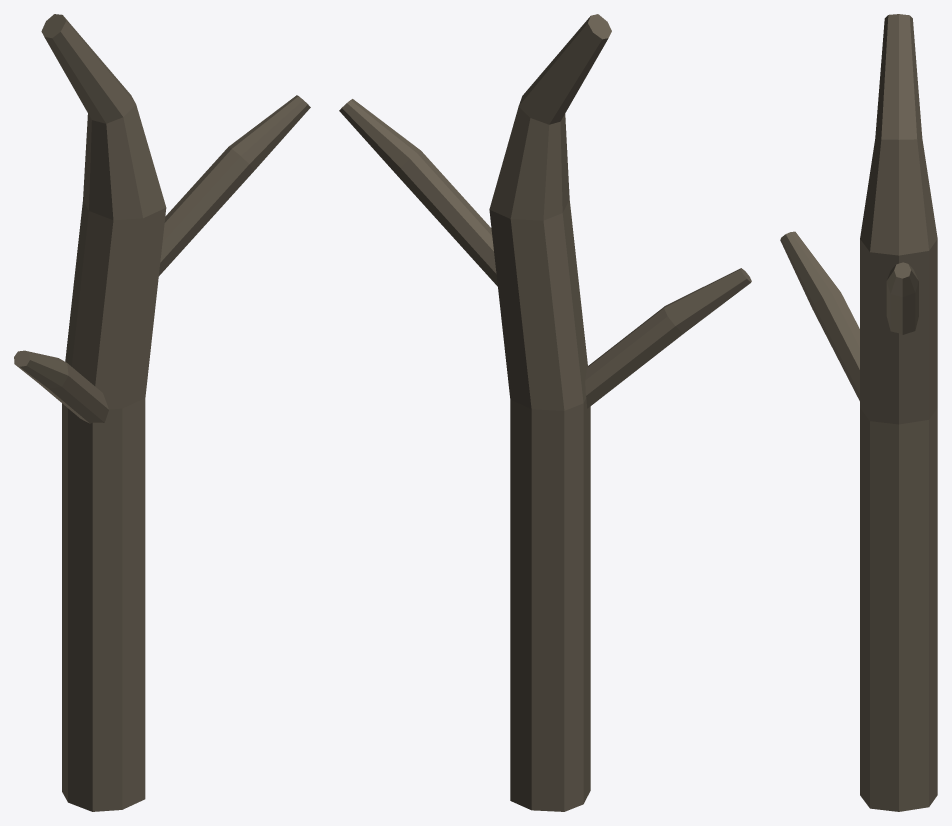
The model's file is Apple_Tree_1B.fbx.
3 renders of one model, left to right at view 1: azimuth 30°, elevation 25°; view 2: azimuth 150°, elevation 25°; view 3: azimuth 270°, elevation 25°, orthographic. The views are drawn at different scales.
Parts seen in each view (by area): view 1: Apple_Tree_1B; view 2: Apple_Tree_1B; view 3: Apple_Tree_1B.
Boxes of the visible parts, left/top/right/bottom form: Apple_Tree_1B: left=14, top=14, right=310, bottom=811; Apple_Tree_1B: left=339, top=14, right=751, bottom=811; Apple_Tree_1B: left=780, top=14, right=937, bottom=811.
Size of the model in its own units: 3.22 by 6.9 by 1.29.
